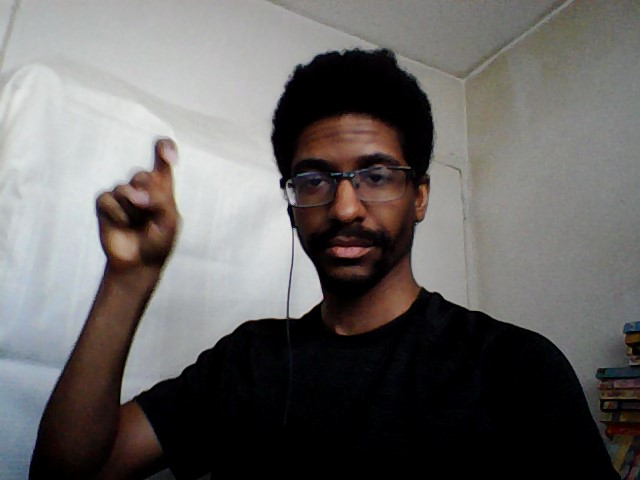x: (89, 134, 189, 279)
